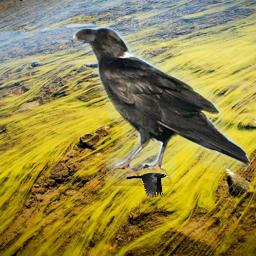Crow: (73, 25, 250, 186), (126, 172, 169, 198)
